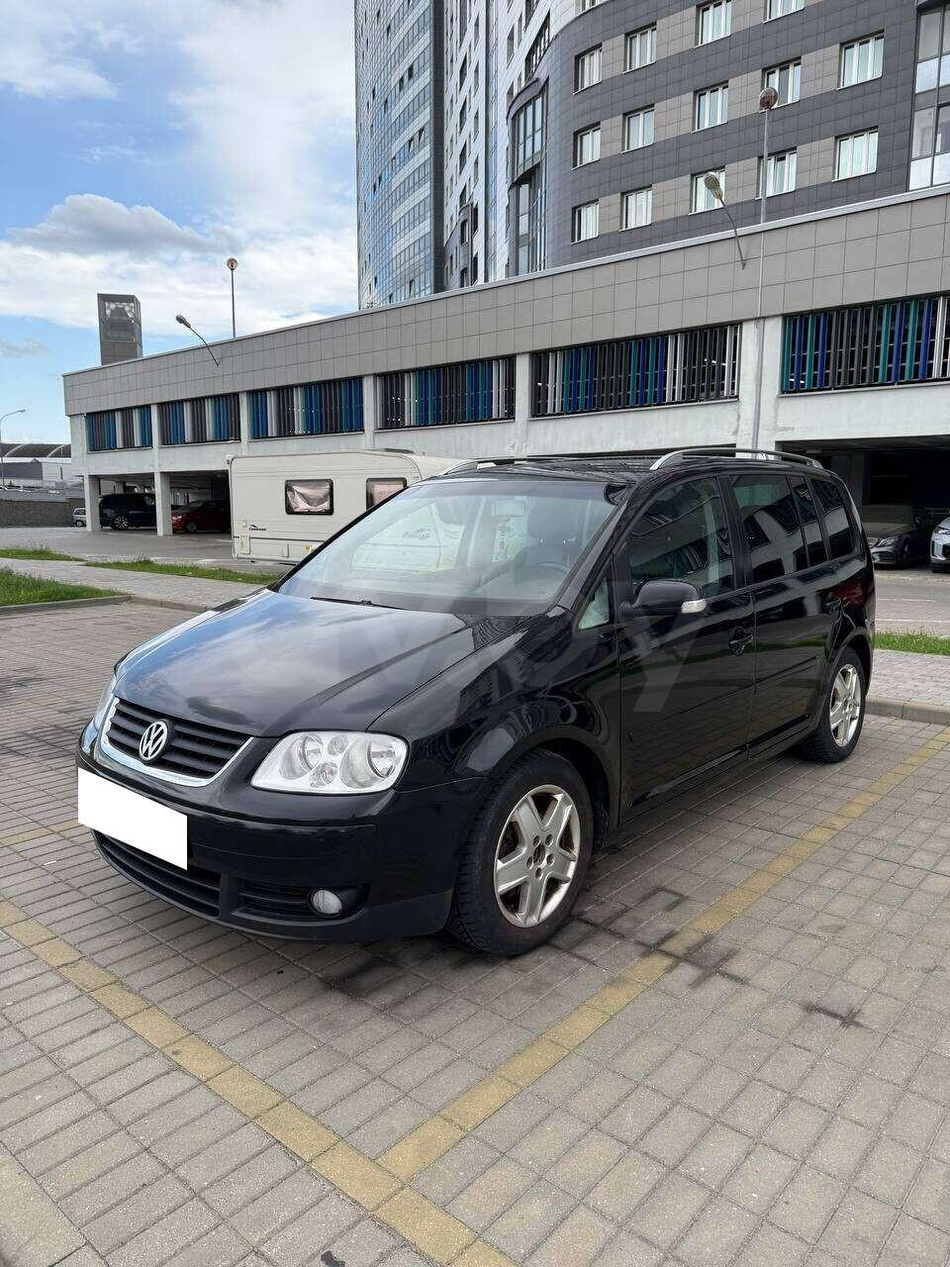Touran_2003-2006: (81, 450, 879, 937)
